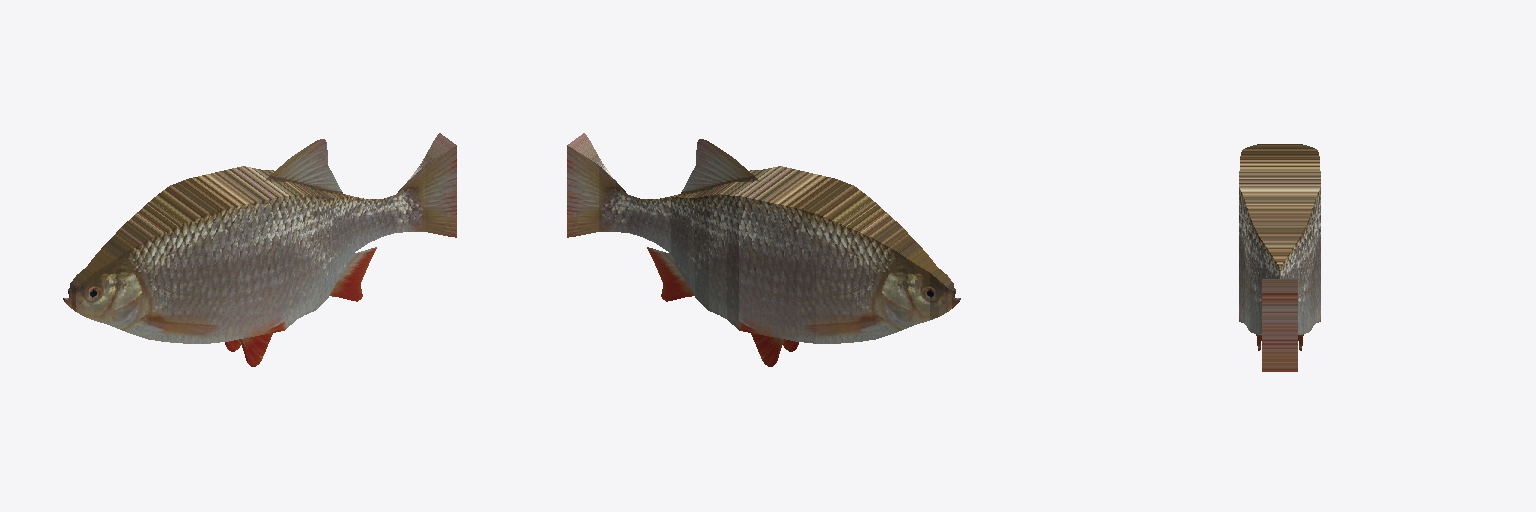
3 views of the same model, side by side, from view 1: azimuth 30°, elevation 25°; view 2: azimuth 150°, elevation 25°; view 3: azimuth 270°, elevation 25° (orthographic).
Visible parts, largest first — view 1: Cube; view 2: Cube; view 3: Cube.
Part boxes in pixels (left/top/right/bottom): Cube: left=63, top=133, right=456, bottom=366; Cube: left=567, top=133, right=960, bottom=366; Cube: left=1239, top=144, right=1320, bottom=371.
Size of the model in its own units: 0.5429 by 0.2723 by 0.1003.
Materials: 1 (1 with a texture image).